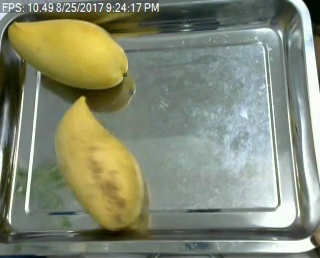Mango: (51, 95, 156, 231), (5, 13, 130, 90)
